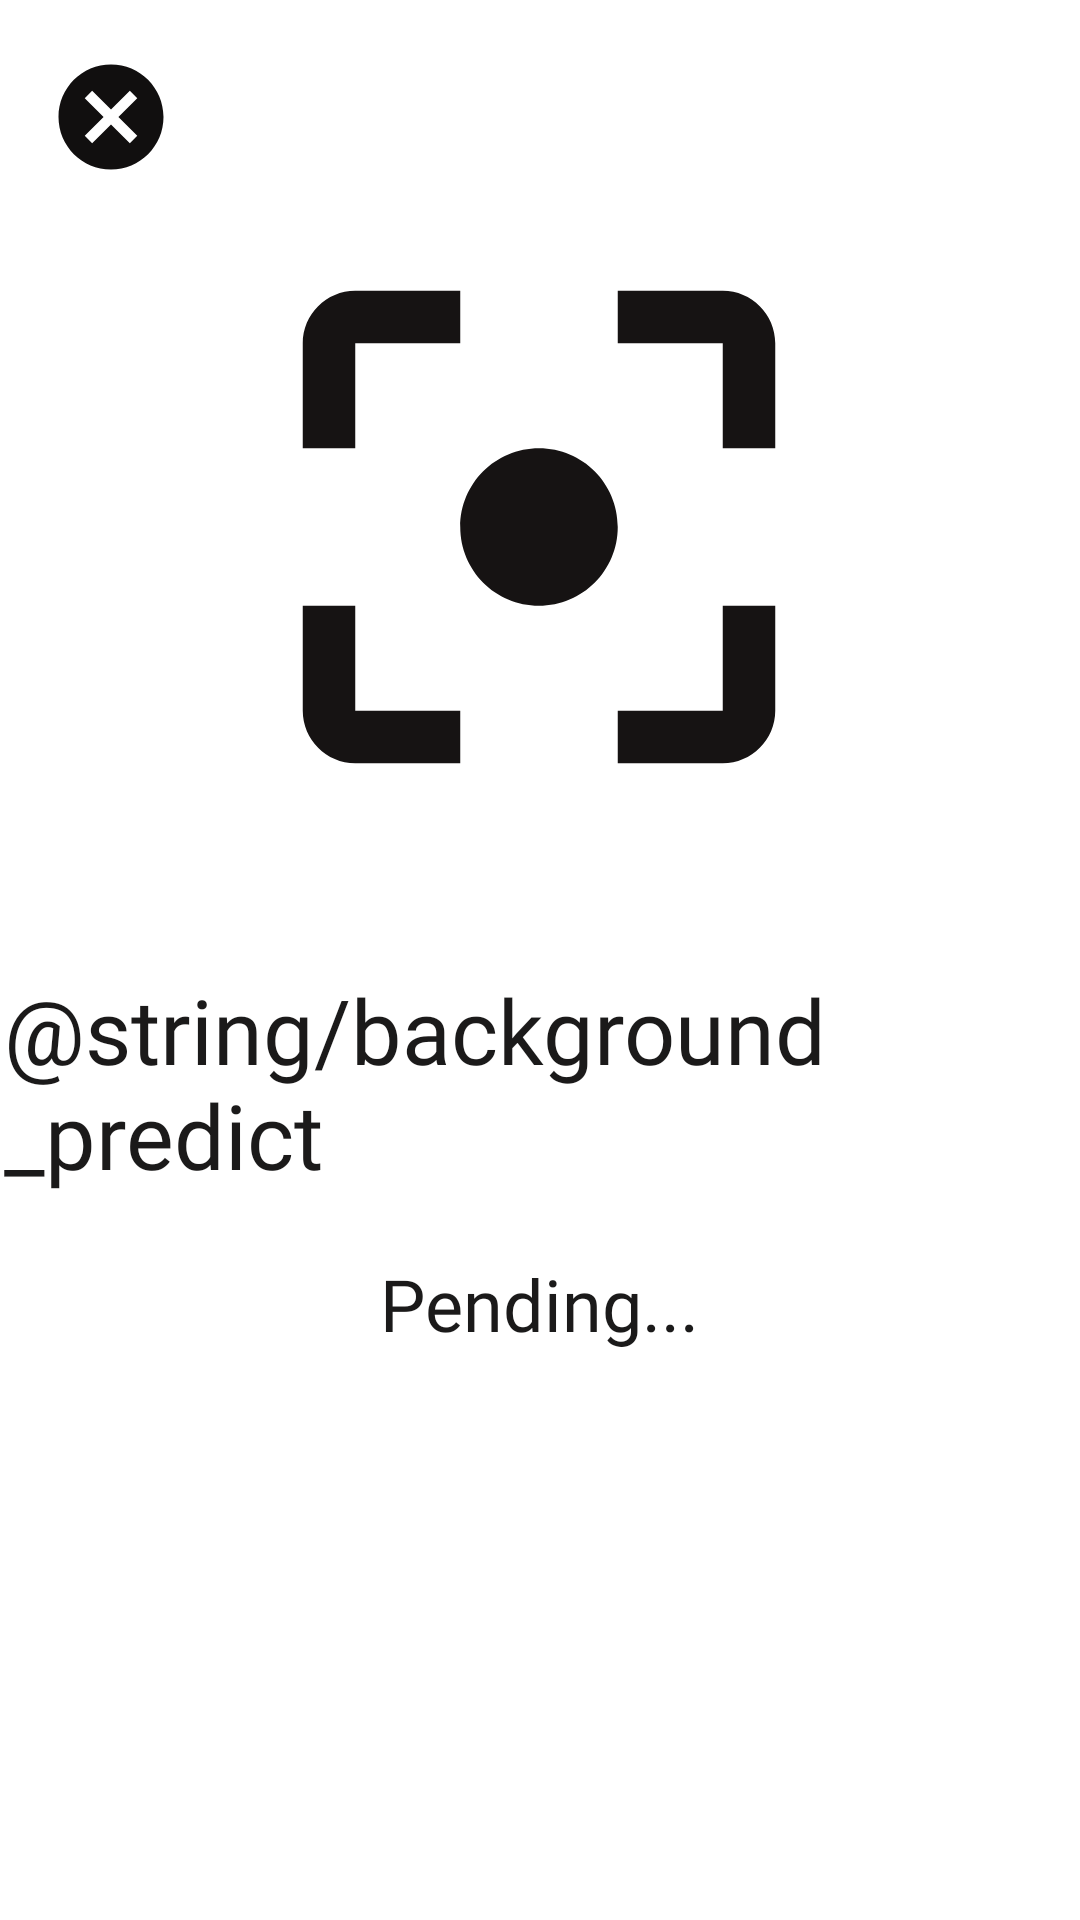

Locate icon controls on the screen. Image size 1080w x 1920h, boxes as (x1, y1, x2, y2).
cancel: (58, 64, 164, 170)
